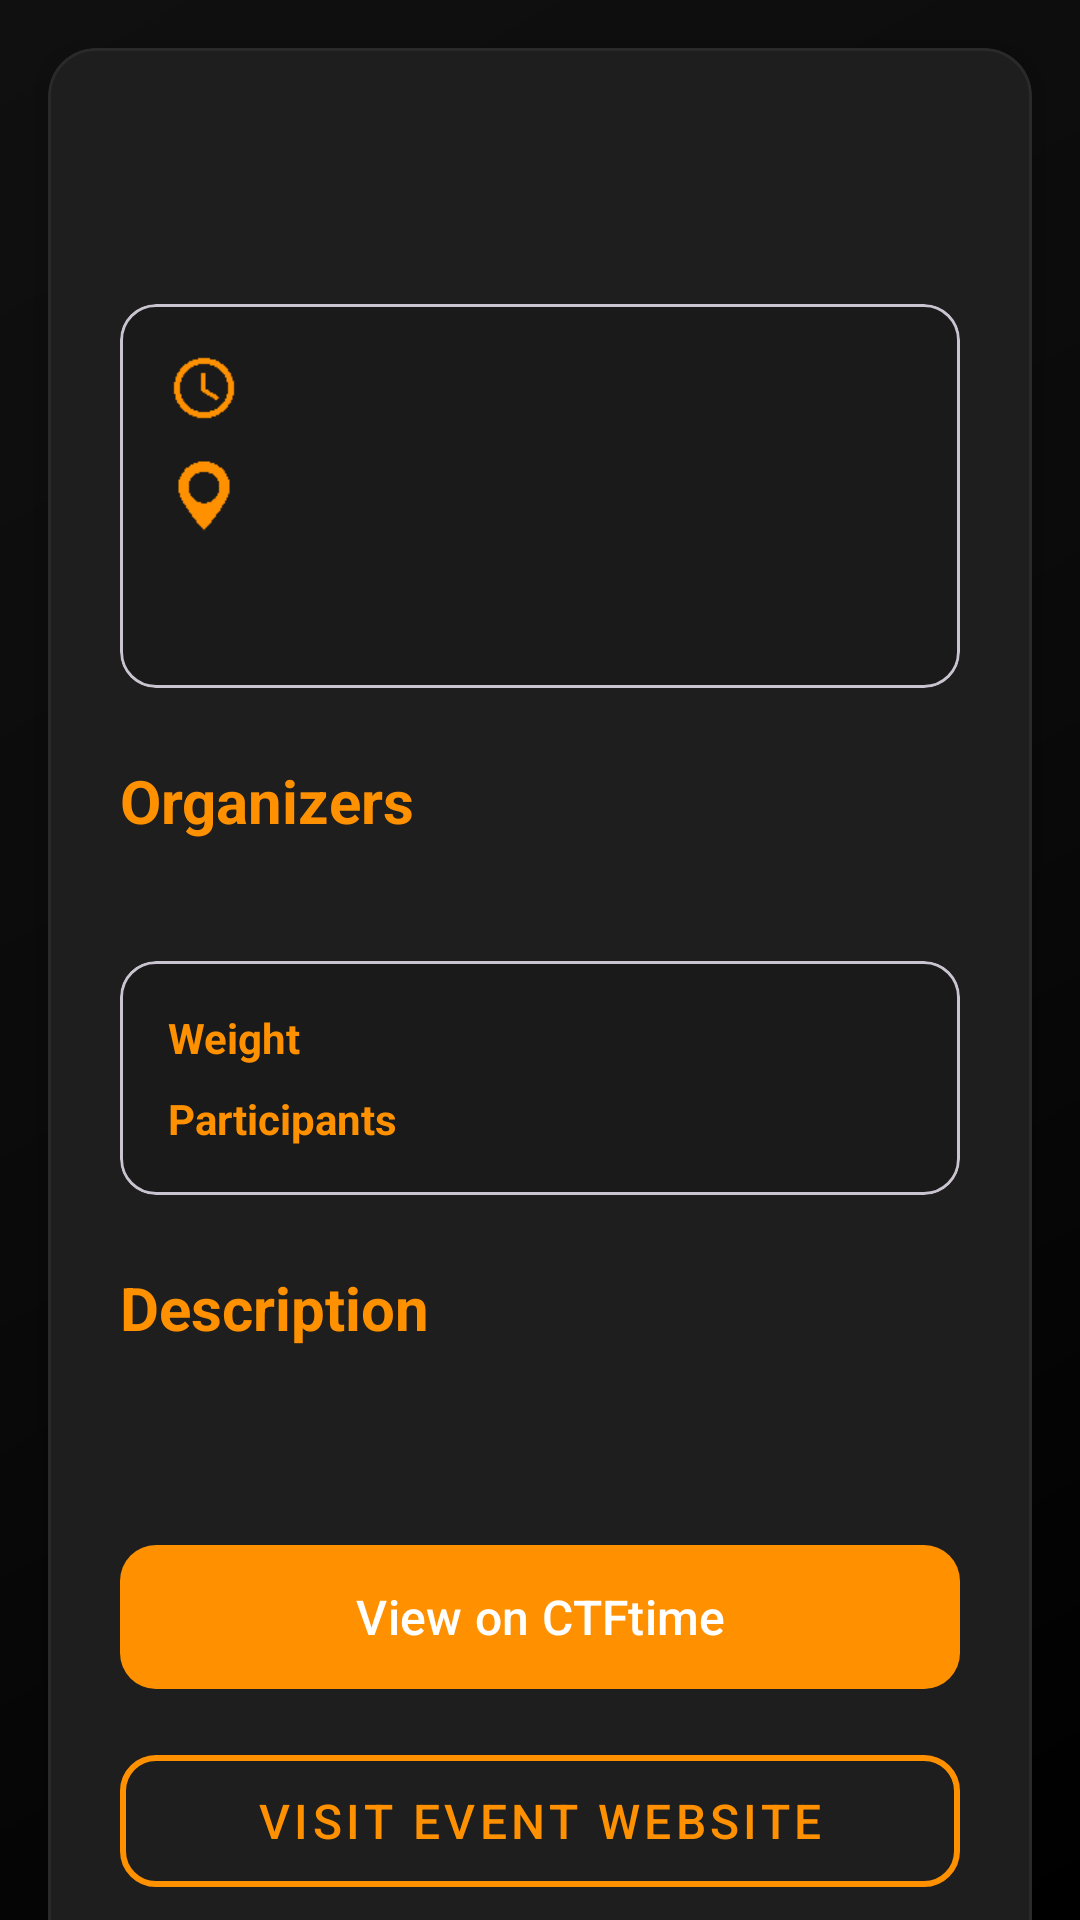

Screen size 1080 x 1920. Icon name, then its box in pixels as (x1, y1, x2, y2):
location: (178, 461, 230, 530)
schedule: (173, 357, 235, 419)
